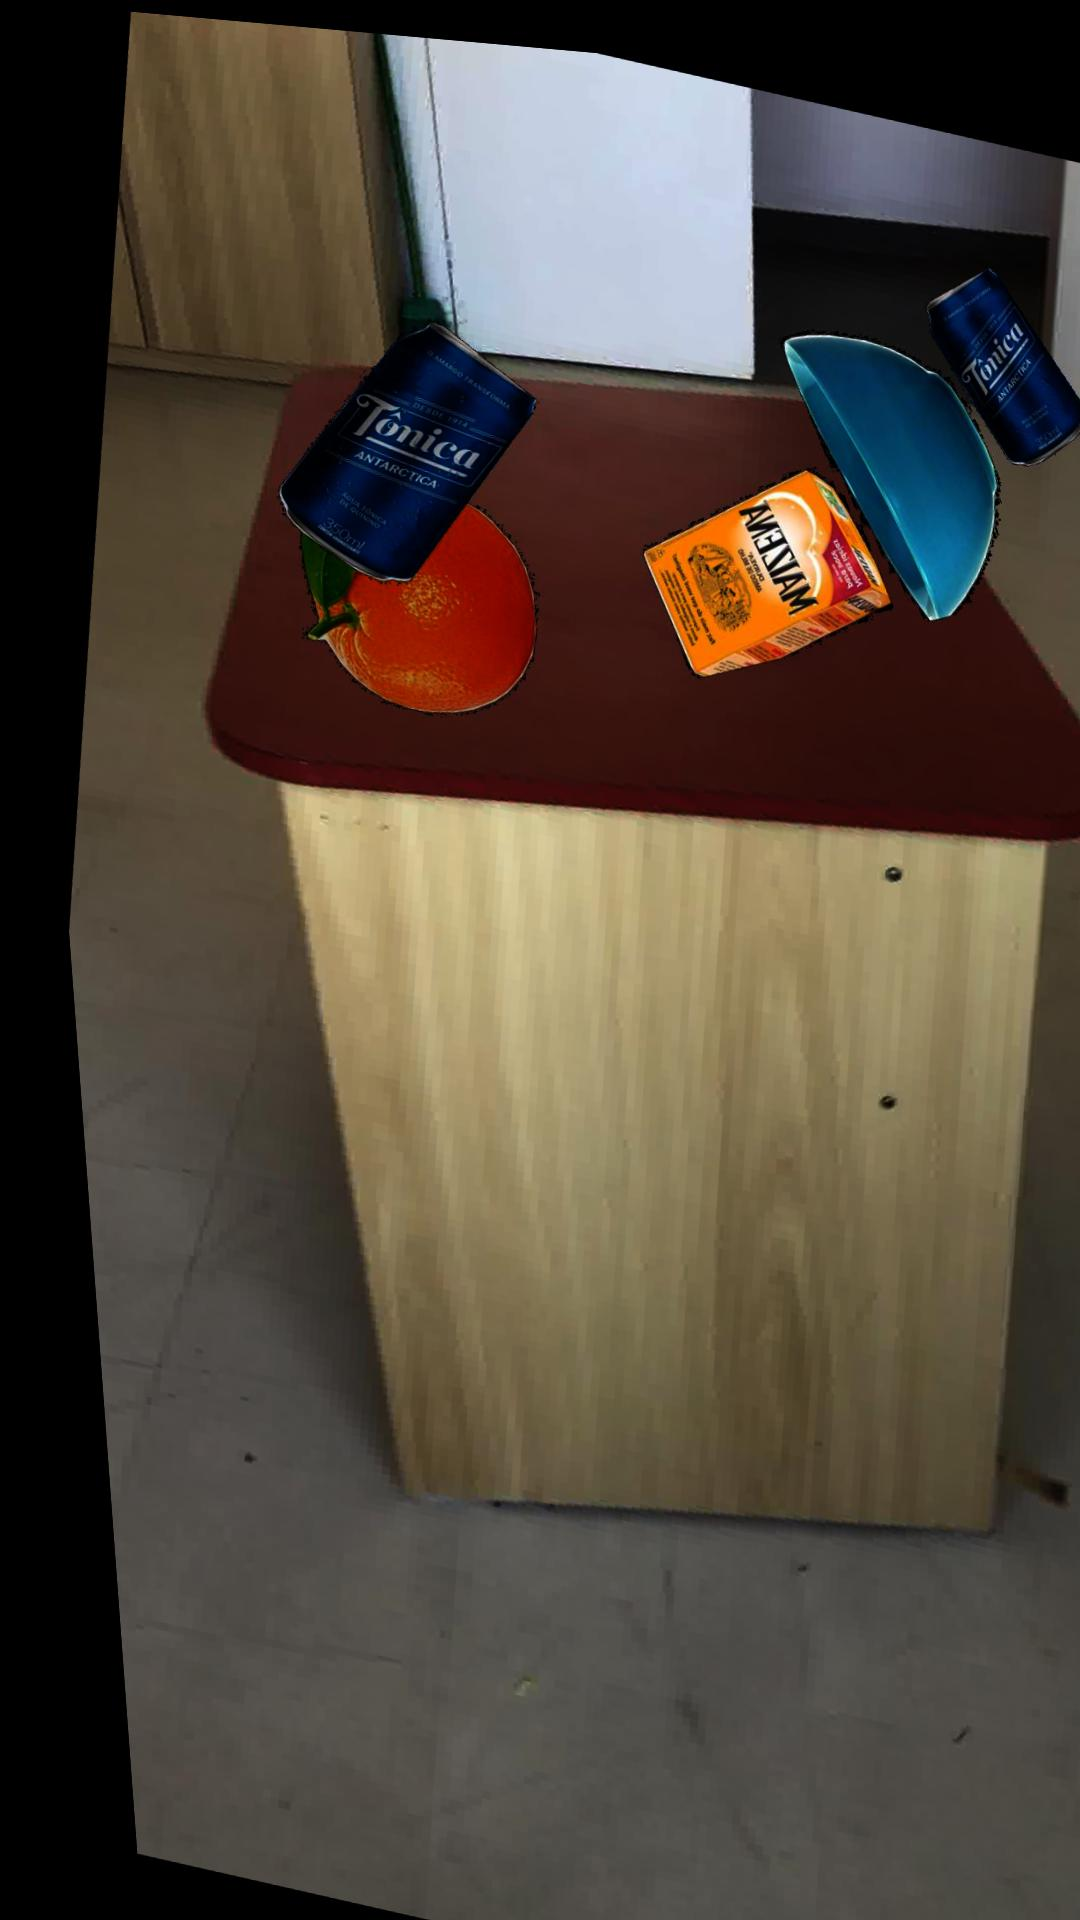bowl: (773, 313, 993, 601)
orange: (289, 491, 527, 703)
tonic: (269, 310, 529, 572), (919, 245, 1080, 444)
